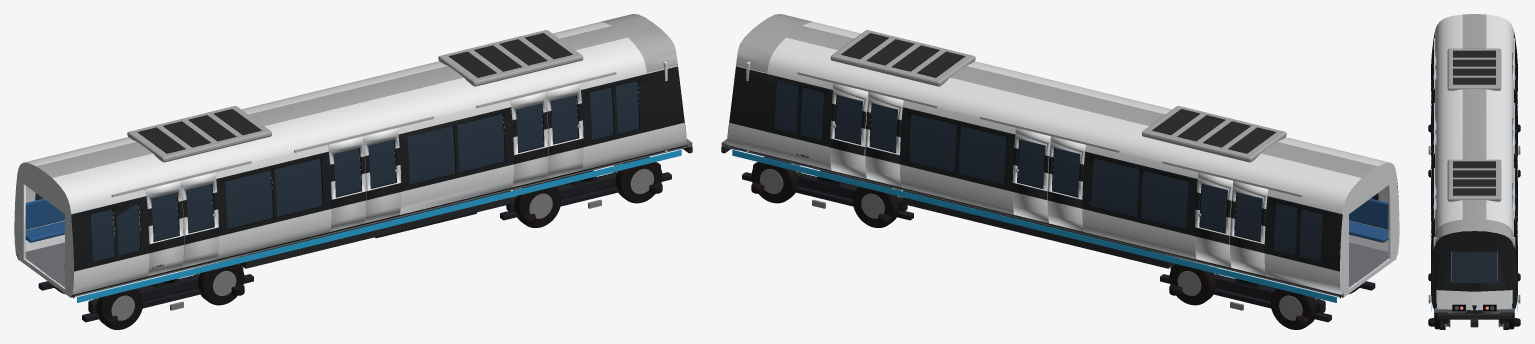
File: mp14_ca__tail.glb
The picture shows the model from 3 angles, left to right: view 1: azimuth 30°, elevation 25°; view 2: azimuth 150°, elevation 25°; view 3: azimuth 270°, elevation 25°; orthographic projection. The views are drawn at different scales.
Parts seen in each view (by area): view 1: mp14_ca_tail; view 2: mp14_ca_tail; view 3: mp14_ca_tail.
Boxes of the visible parts, box(x1,y1,x2,y2) form: mp14_ca_tail: box(14, 14, 692, 329); mp14_ca_tail: box(721, 14, 1399, 329); mp14_ca_tail: box(1428, 14, 1520, 329).
Bounding box in the file's own units: 15.04 × 3.48 × 2.59.
10 materials, 4 textured.
